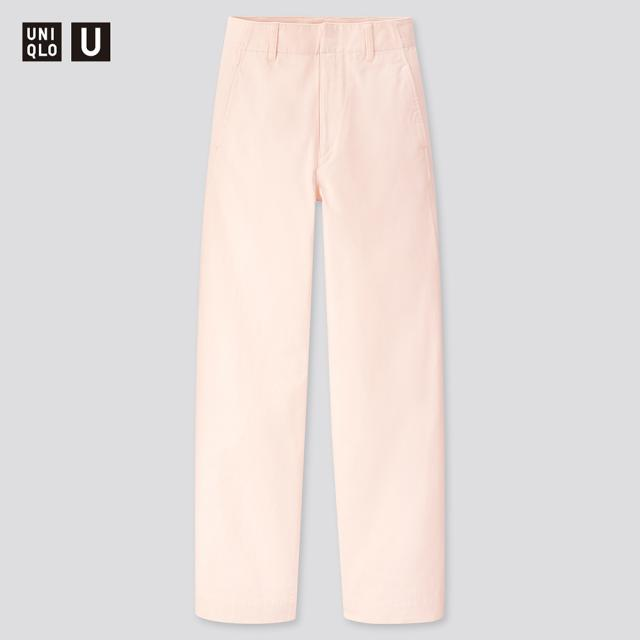long-pants: (195, 17, 451, 629)
